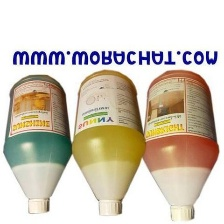cleaning_solution: (140, 67, 223, 223), (67, 67, 149, 218), (2, 71, 74, 216)
